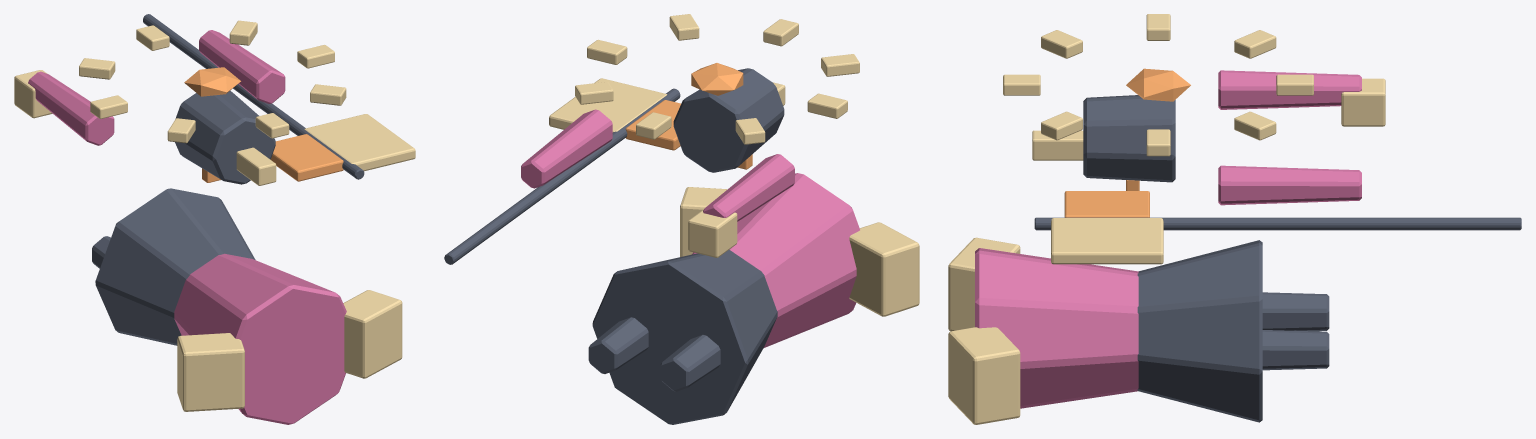
Rendered from Enemy_ChronoInquisitorBoss.fbx.
The picture shows the model from 3 angles, left to right: view 1: azimuth 30°, elevation 25°; view 2: azimuth 150°, elevation 25°; view 3: azimuth 270°, elevation 25°; orthographic projection. The views are drawn at different scales.
Visible parts, largest first — view 1: BossTorso, BossSkirt, BossCrownHelm, BossLeftWingShoulder, BossRightWingShoulder, BossHalberdBladeA, RightArmMesh, LeftArmMesh, BossHalberdBladeB, BossHalberdShaft, HaloCore, BossCrownSpire (+9 smaller); view 2: BossSkirt, BossTorso, BossCrownHelm, BossLeftWingShoulder, RightArmMesh, LeftArmMesh, BossHalberdShaft, BossHalberdBladeA, LeftLegMesh, RightLegMesh, LeftClaw, HaloCore (+10 smaller); view 3: BossTorso, BossSkirt, BossCrownHelm, BossRightWingShoulder, BossHalberdShaft, BossHalberdBladeA, RightArmMesh, LeftArmMesh, RightLegMesh, BossLeftWingShoulder, LeftLegMesh, BossHalberdBladeB (+11 smaller).
Part boxes in pixels (box(x1,y1,x2,y2)): BossTorso: box(174, 253, 346, 424); BossSkirt: box(95, 188, 255, 345); BossCrownHelm: box(175, 90, 275, 184); BossLeftWingShoulder: box(177, 333, 244, 411); BossRightWingShoulder: box(343, 290, 402, 378); BossHalberdBladeA: box(304, 114, 415, 171); RightArmMesh: box(199, 30, 285, 103); LeftArmMesh: box(28, 71, 114, 145); BossHalberdBladeB: box(270, 134, 343, 181); BossHalberdShaft: box(143, 14, 364, 179); HaloCore: box(184, 67, 240, 96); BossCrownSpire: box(236, 147, 276, 185); BossSkirt: box(592, 249, 777, 424); BossTorso: box(692, 173, 859, 347); BossCrownHelm: box(673, 68, 784, 172); BossLeftWingShoulder: box(849, 222, 919, 316); RightArmMesh: box(521, 109, 612, 188); LeftArmMesh: box(703, 154, 794, 221); BossHalberdShaft: box(444, 88, 680, 264); BossHalberdBladeA: box(549, 78, 667, 132); LeftLegMesh: box(660, 335, 720, 391); RightLegMesh: box(588, 317, 648, 373); LeftClaw: box(688, 209, 737, 257); HaloCore: box(691, 63, 743, 95); BossTorso: box(975, 248, 1138, 408); BossSkirt: box(1137, 240, 1262, 422); BossCrownHelm: box(1083, 95, 1175, 182); BossRightWingShoulder: box(948, 327, 1020, 424); BossHalberdShaft: box(1034, 217, 1521, 230); BossHalberdBladeA: box(1051, 218, 1163, 264); RightArmMesh: box(1218, 165, 1361, 205); LeftArmMesh: box(1218, 70, 1361, 109); RightLegMesh: box(1262, 330, 1329, 370); BossLeftWingShoulder: box(948, 237, 1020, 331); LeftLegMesh: box(1262, 292, 1329, 331); BossHalberdBladeB: box(1064, 191, 1149, 217).
Bounding box in the file's own units: 2.12 × 2.22 × 3.36.
